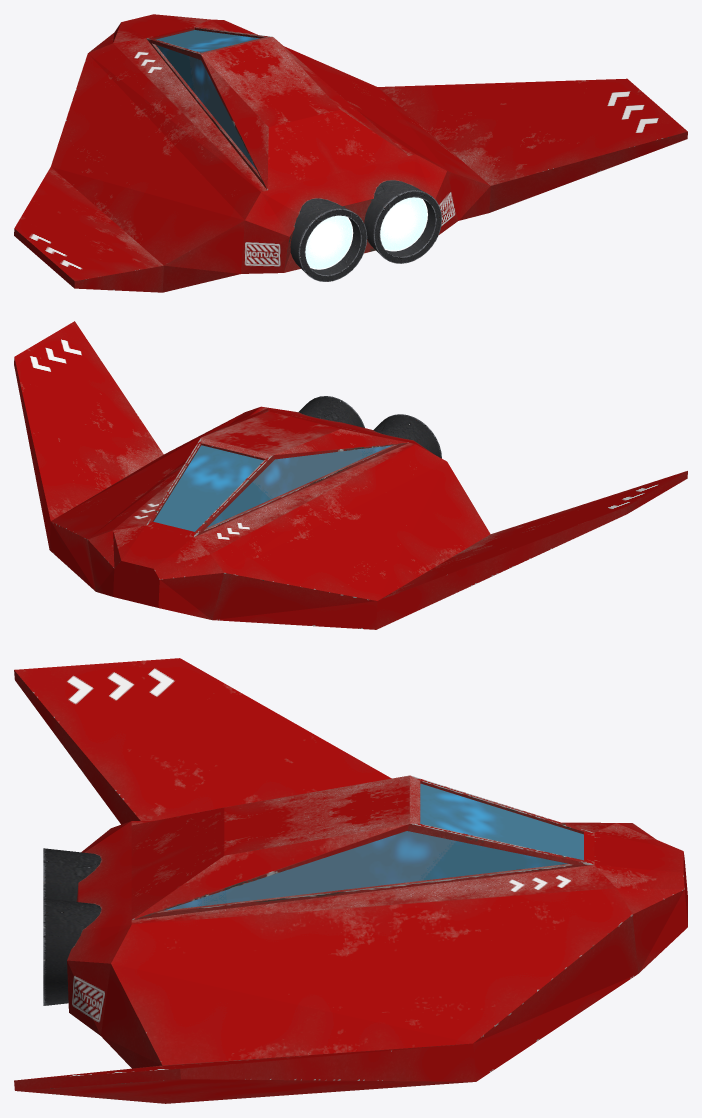
The model's file is ship.glb.
3 views of the same model, one above another, from view 1: azimuth 30°, elevation 25°; view 2: azimuth 150°, elevation 25°; view 3: azimuth 270°, elevation 25° (orthographic). The views are drawn at different scales.
Parts seen in each view (by area): view 1: ship; view 2: ship; view 3: ship.
Boxes of the visible parts, x1,y1,x2,y2 form: ship: [14, 14, 687, 292]; ship: [14, 321, 687, 629]; ship: [14, 658, 687, 1103].
Bounding box in the file's own units: 2.45 × 0.5427 × 1.7.
1 material, 1 textured.
